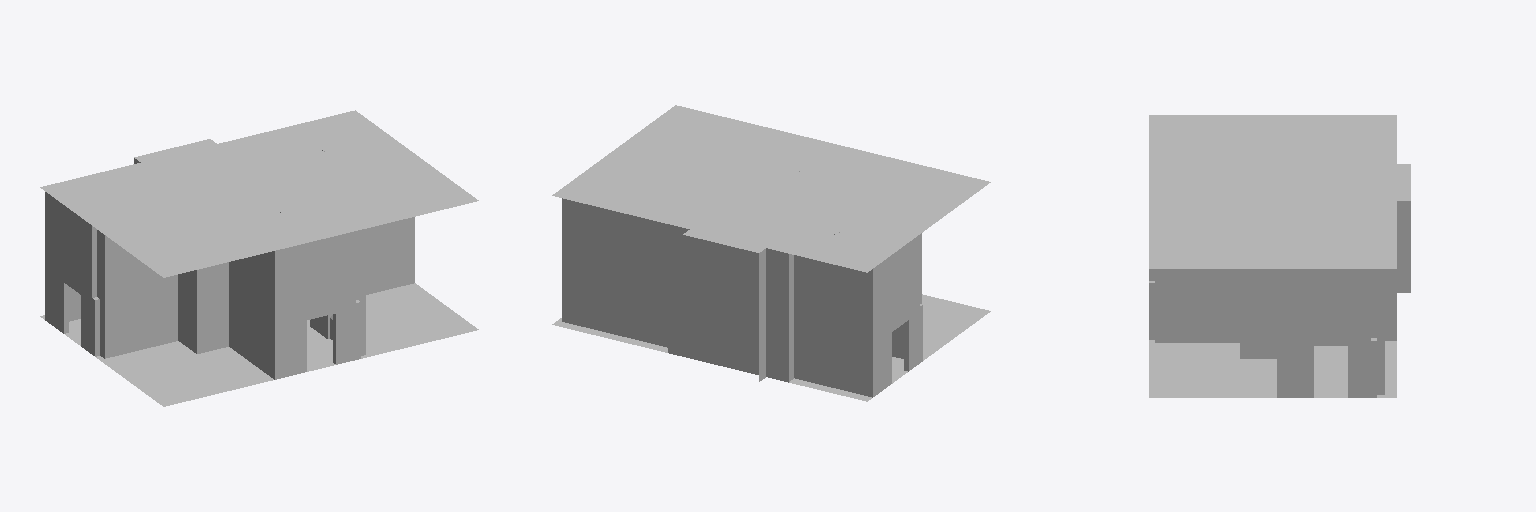
File: LC_room3.obj
3 renders of one model, left to right at view 1: azimuth 30°, elevation 25°; view 2: azimuth 150°, elevation 25°; view 3: azimuth 270°, elevation 25°, orthographic.
Parts seen in each view (by area): view 1: LC_room3; view 2: LC_room3; view 3: LC_room3.
Boxes of the visible parts, x1=… form: LC_room3: x1=40, y1=110, x2=478, y2=406; LC_room3: x1=552, y1=105, x2=990, y2=401; LC_room3: x1=1149, y1=115, x2=1410, y2=397.
Bounding box in the file's own units: 20.48 × 8.01 × 14.72.